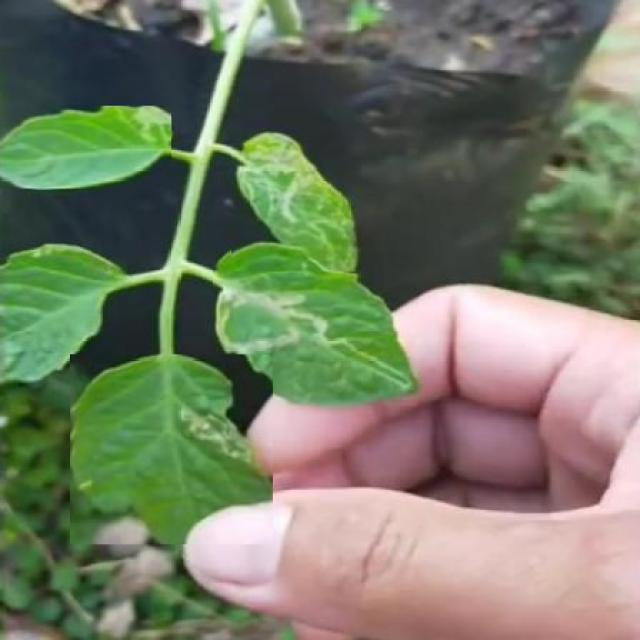Leaf Miner: (70, 354, 274, 544), (214, 235, 419, 406), (231, 126, 360, 271), (0, 105, 171, 188)
